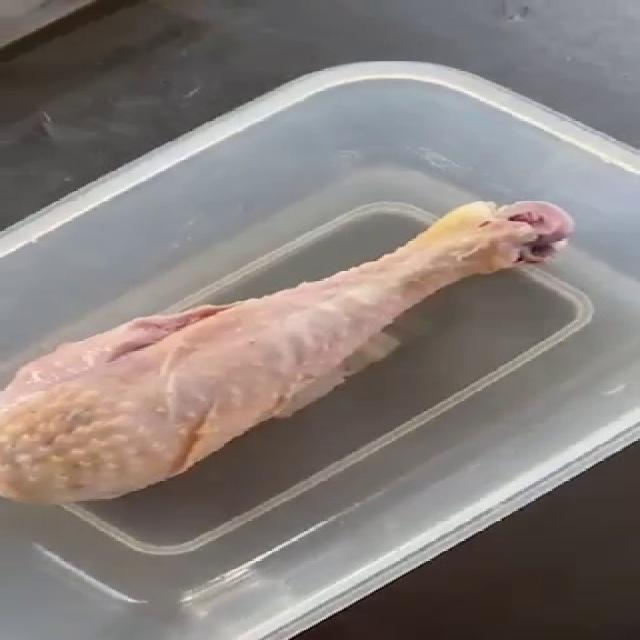chicken: (0, 197, 575, 506)
